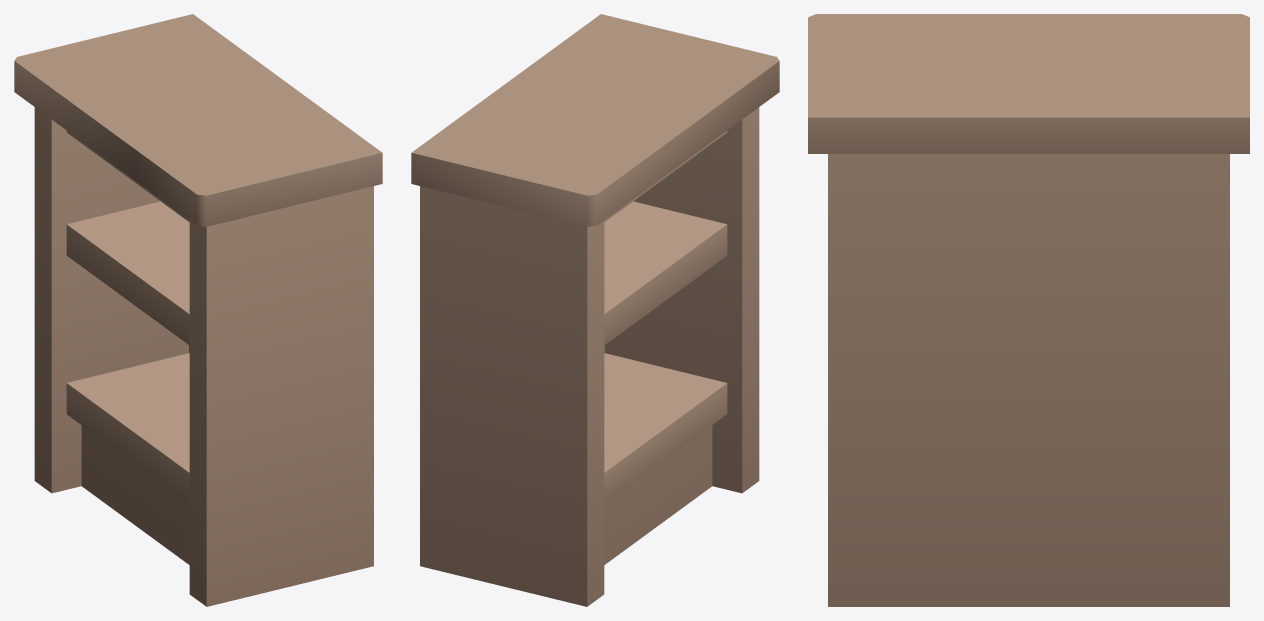
Rendered from cabinet-bookcase-classic-narrow-lowest.glb.
3 renders of one model, left to right at view 1: azimuth 30°, elevation 25°; view 2: azimuth 150°, elevation 25°; view 3: azimuth 270°, elevation 25°, orthographic. The views are drawn at different scales.
Parts seen in each view (by area): view 1: cabinet-bookcase-classic-narrow-lowest; view 2: cabinet-bookcase-classic-narrow-lowest; view 3: cabinet-bookcase-classic-narrow-lowest.
Part boxes in pixels (box(x1,y1,x2,y2)): cabinet-bookcase-classic-narrow-lowest: box(14, 14, 382, 606); cabinet-bookcase-classic-narrow-lowest: box(411, 14, 779, 606); cabinet-bookcase-classic-narrow-lowest: box(808, 14, 1249, 606).
Bounding box in the file's own units: 0.305 × 0.672 × 0.55.
